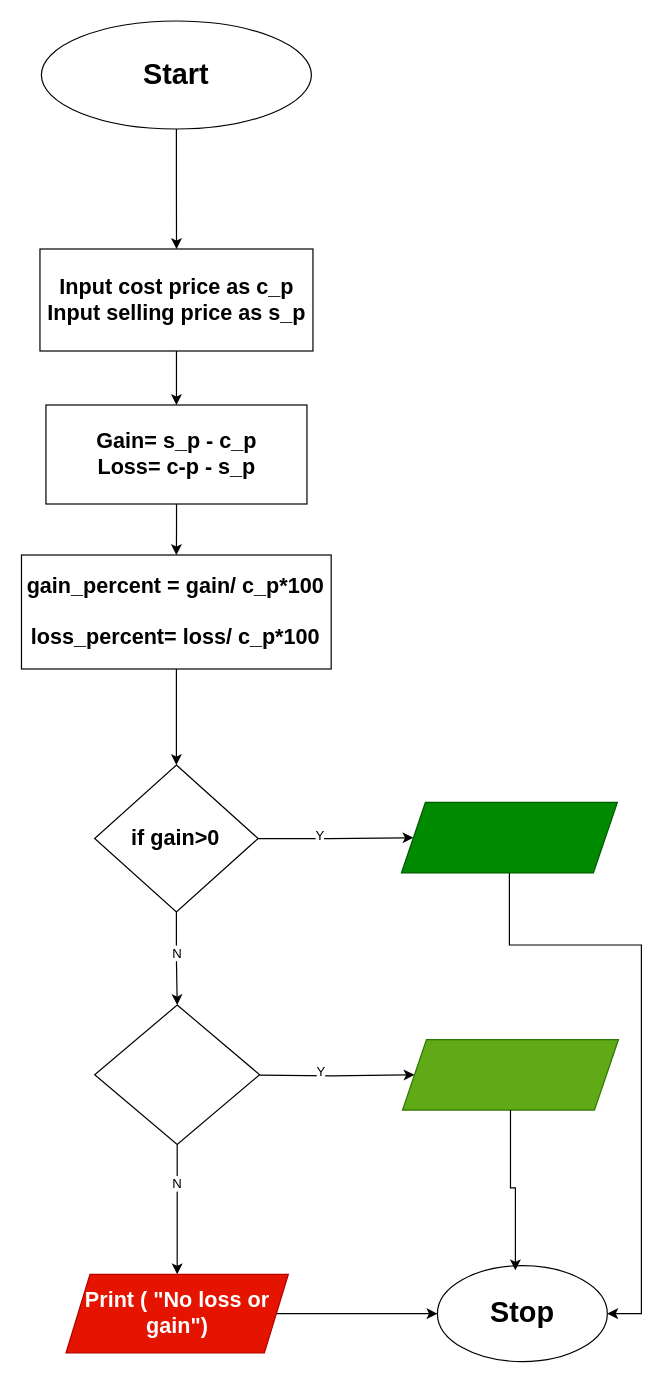
Image size: 672x1384. Some labels were removed from this diagram. Here are the shapes that lost their labels. From the top down, the box of each, then its label:
(400, 801, 617, 873): Print ( gain, gain_percent)
(93, 1004, 260, 1144): elif gain<0
(401, 1038, 618, 1110): Print ( loss, loss_percent)
